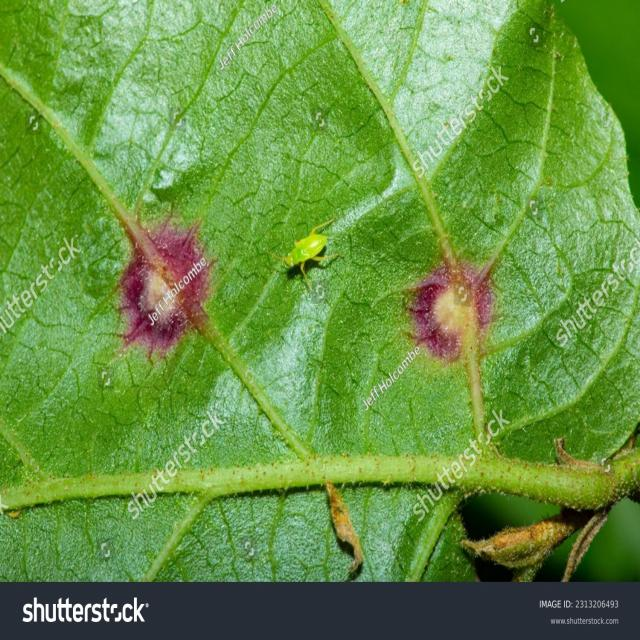Aphid-Grown-: (271, 209, 336, 286)
